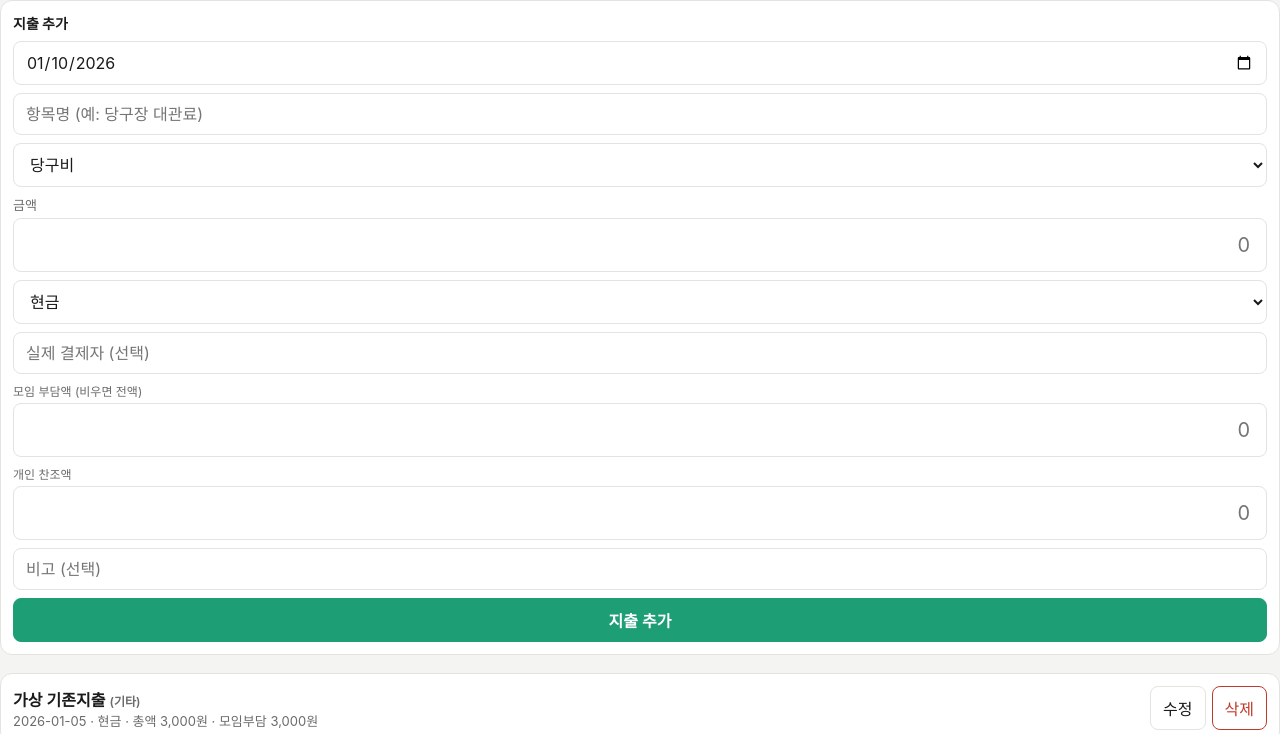
Test: 지출 날짜 기본값 — 브라우저 오늘이 아니라 선택된 정산(모임) 날짜를 사용한다 › 기존 지출을 수정할 때는 그 지출의 기존 날짜가 그대로 보인다
The image size is (1280, 734).
Click the button "수정": click(1178, 708) [1150,686,1206,730]
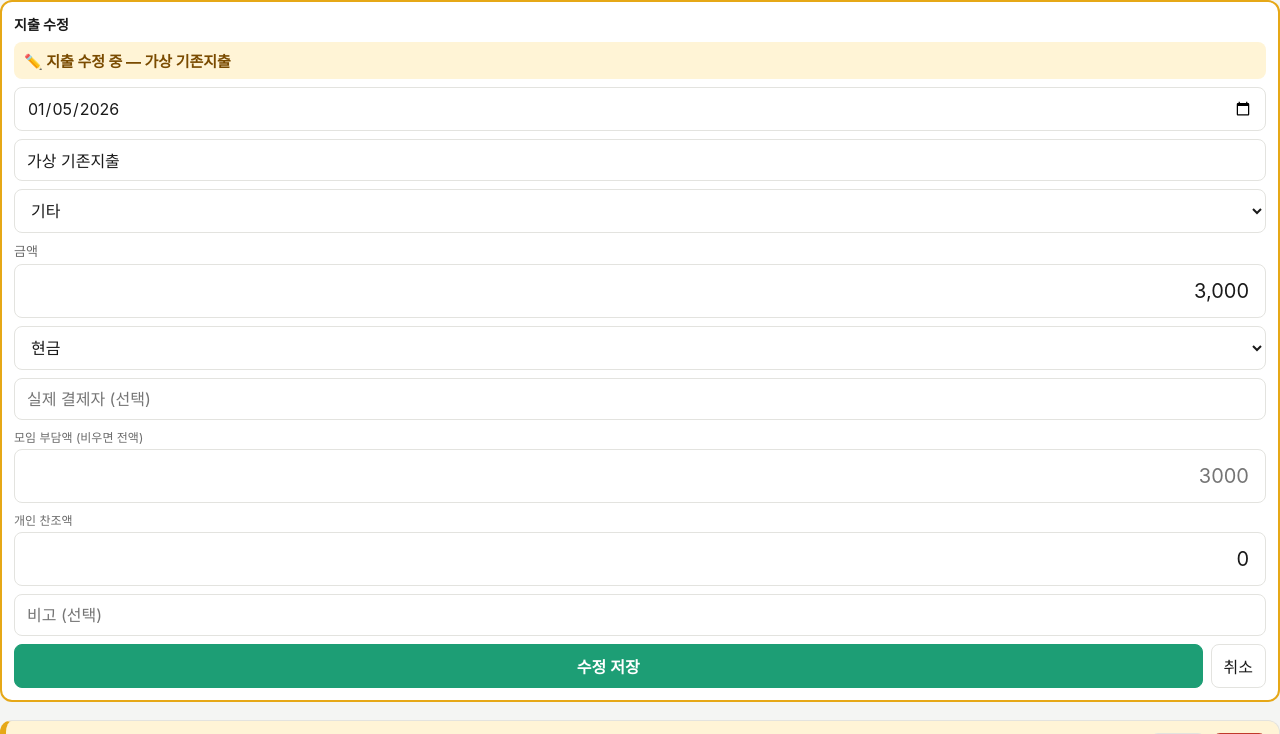
Expected: the date field holds "2026-01-05", [14,87,1266,131]
